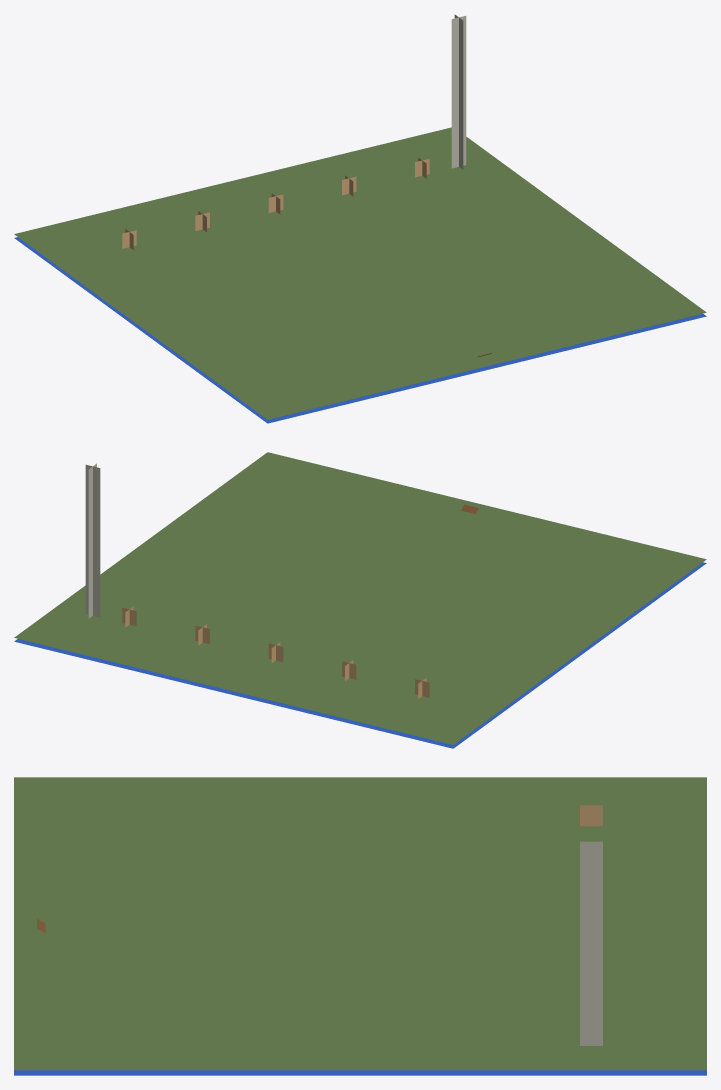
Rendered from scene_good.obj.
3 views of the same model, one above another, from view 1: azimuth 30°, elevation 25°; view 2: azimuth 150°, elevation 25°; view 3: azimuth 270°, elevation 25° (orthographic). The views are drawn at different scales.
Visible parts, largest first — view 1: terrain, water, lighthouse_tower; view 2: terrain, water, lighthouse_tower; view 3: terrain, lighthouse_tower, water, house_1.
Part boxes in pixels (box(x1,y1,x2,y2)): terrain: box(14, 127, 706, 419); water: box(14, 237, 706, 423); lighthouse_tower: box(451, 14, 466, 169); terrain: box(14, 452, 706, 744); water: box(14, 562, 706, 748); lighthouse_tower: box(85, 463, 100, 618); terrain: box(14, 777, 706, 1070); lighthouse_tower: box(580, 841, 602, 1045); water: box(14, 1070, 706, 1075); house_1: box(580, 805, 602, 826).
Size of the model in its own units: 60 by 21 by 60.
